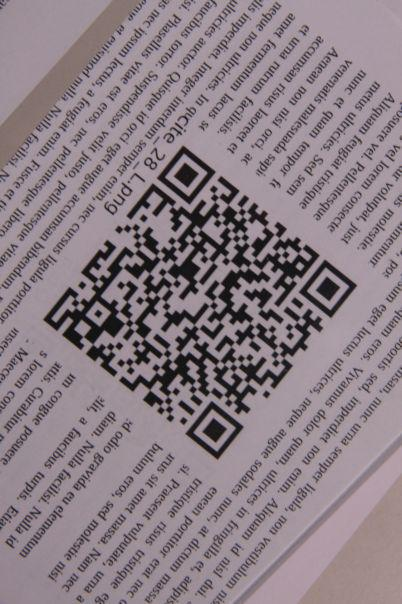Finder pattern: (156, 146, 220, 209), (298, 255, 359, 319), (182, 403, 246, 464)
